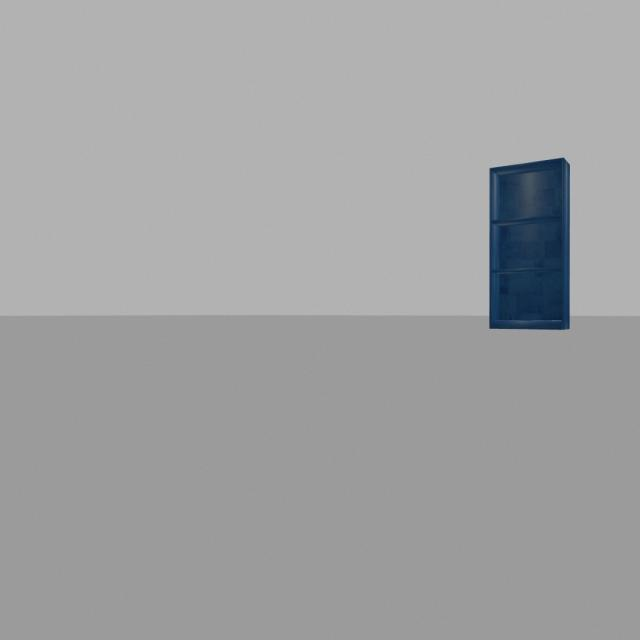shelf: (477, 142, 592, 348)
